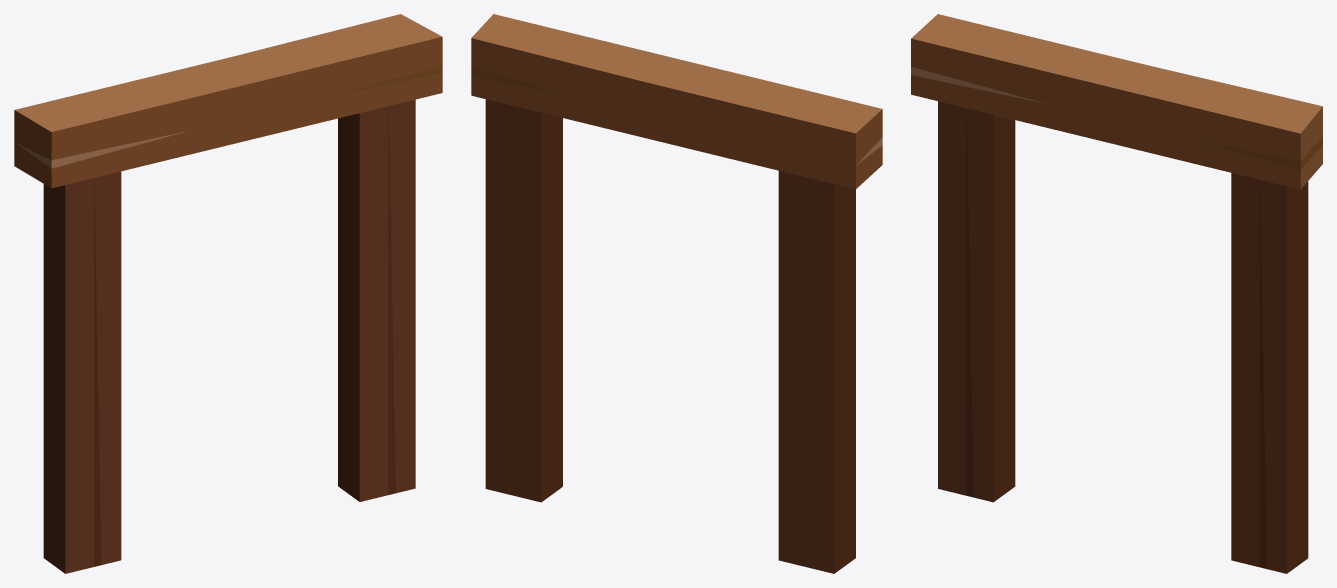
Rendered from khung.fbx.
The picture shows the model from 3 angles, left to right: view 1: azimuth 30°, elevation 25°; view 2: azimuth 150°, elevation 25°; view 3: azimuth 330°, elevation 25°; orthographic projection.
Parts seen in each view (by area): view 1: khung; view 2: khung; view 3: khung.
Boxes of the visible parts, x1=… form: khung: x1=14, y1=14, x2=442, y2=573; khung: x1=471, y1=14, x2=882, y2=573; khung: x1=911, y1=14, x2=1322, y2=573.
Size of the model in its own units: 234 by 256 by 32.77.
